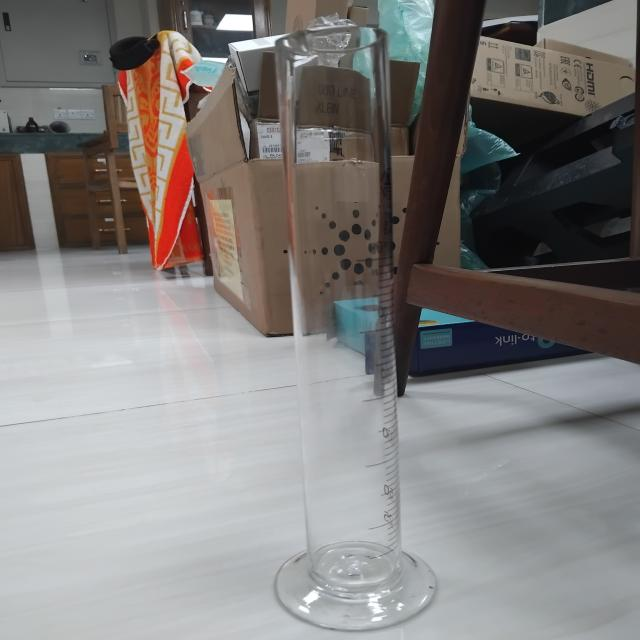Measuring_Cylinder: (240, 13, 457, 640)
